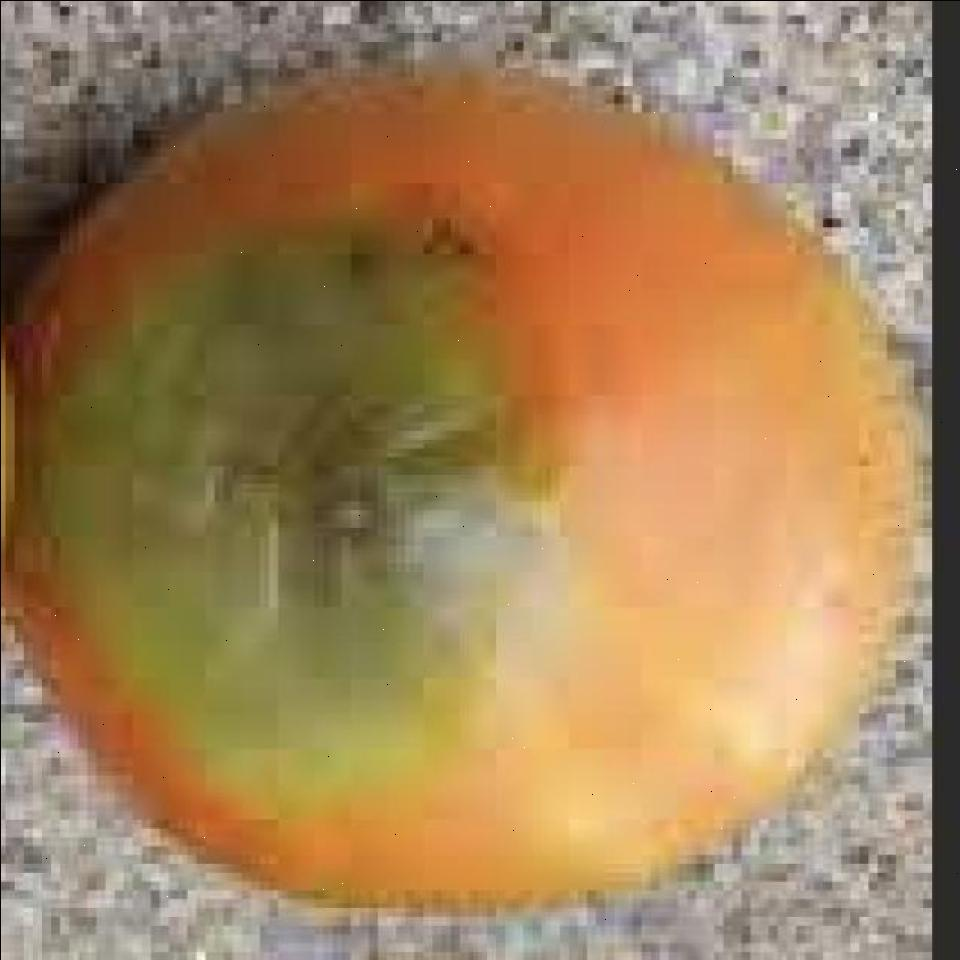Sunscald: (38, 200, 748, 846)
